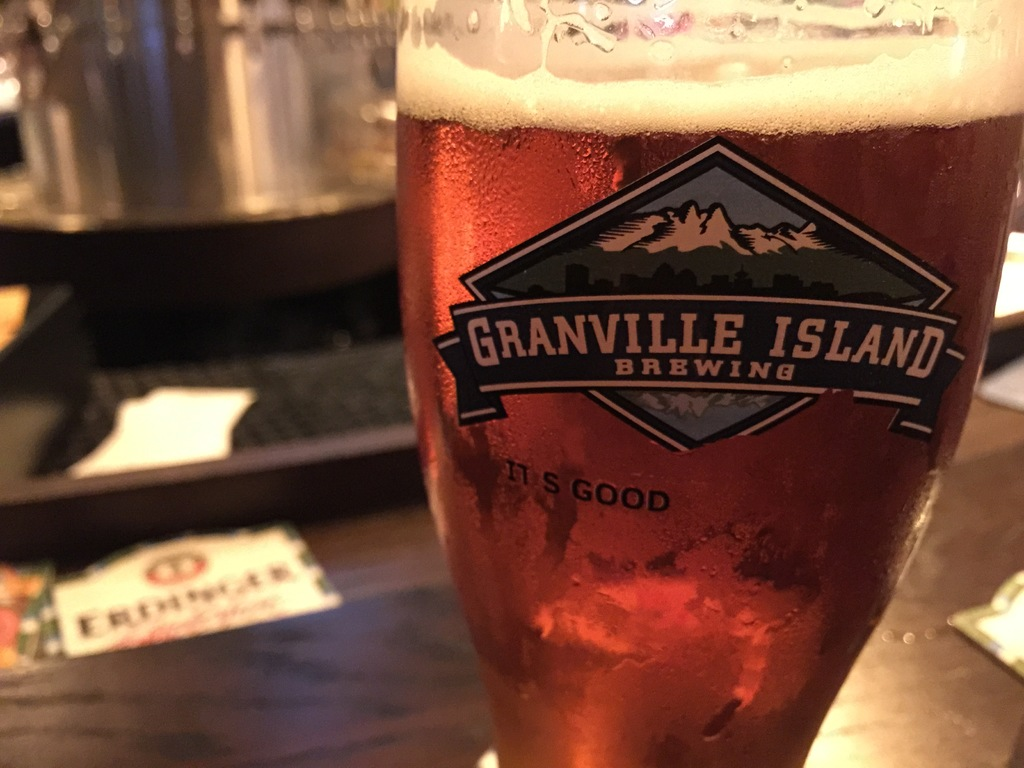Beer: (400, 34, 1022, 767)
